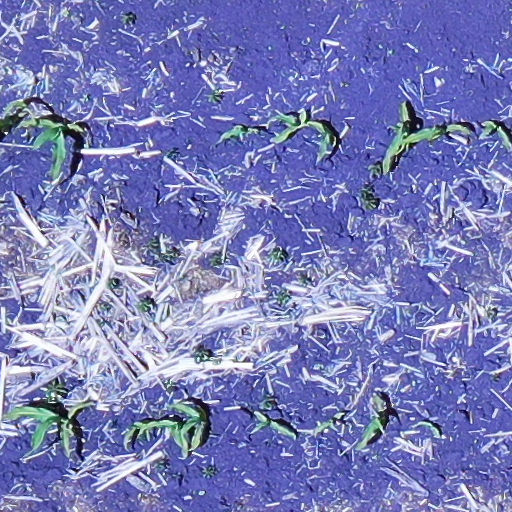planta: (16, 117, 84, 183), (127, 418, 190, 456), (61, 401, 94, 458), (383, 103, 408, 173), (170, 401, 205, 451), (398, 124, 471, 146), (305, 119, 333, 158), (256, 411, 297, 437), (273, 111, 307, 142), (358, 412, 383, 448)
